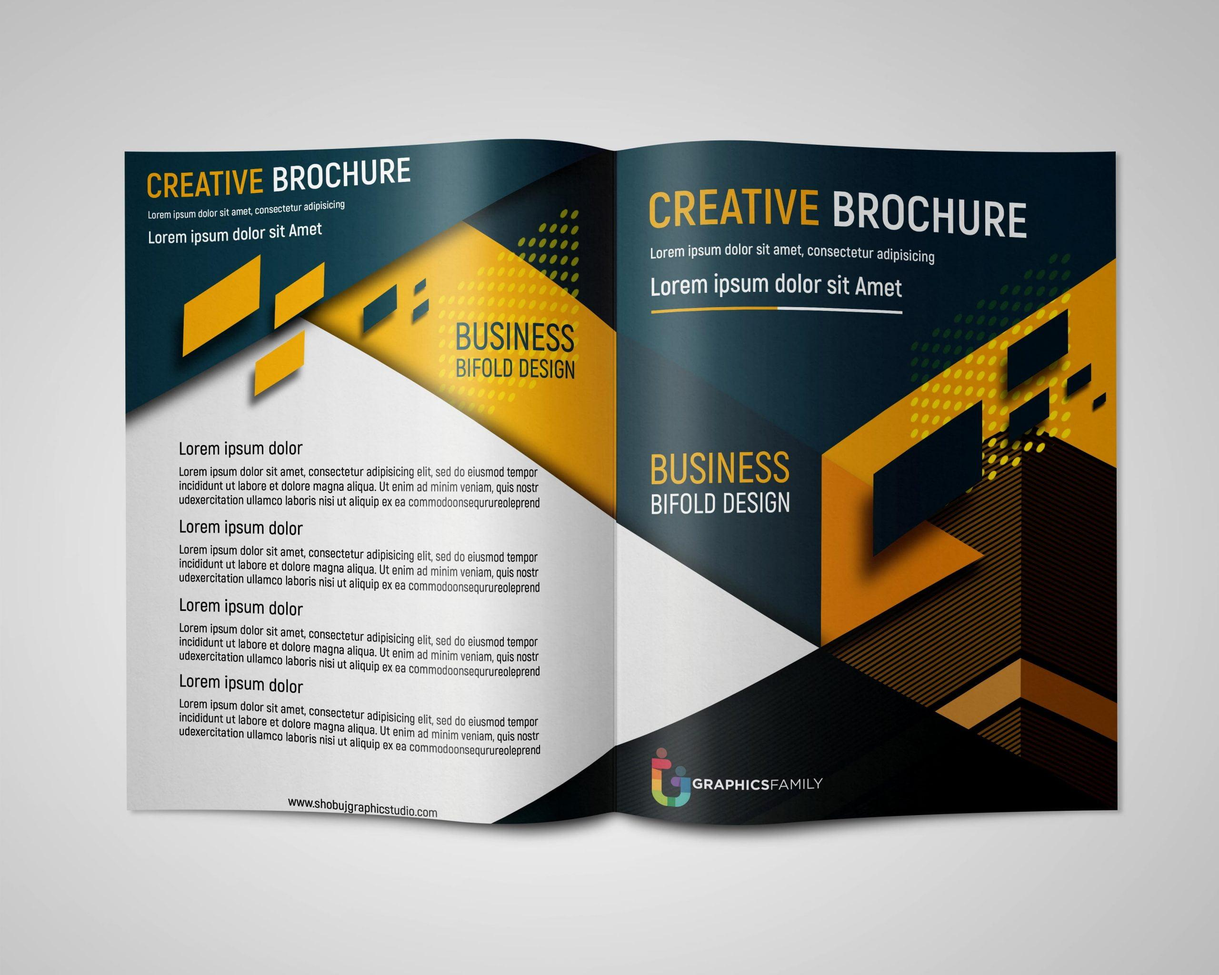paper: (129, 142, 1119, 819)
